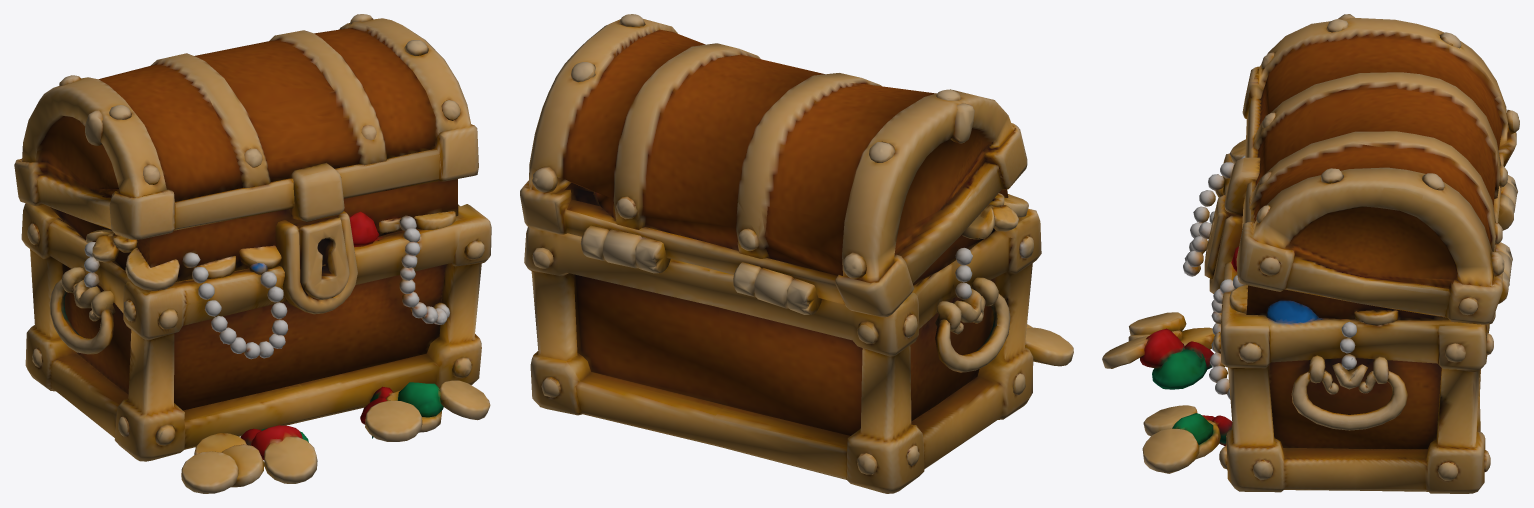
File: treasure+chest.glb
The picture shows the model from 3 angles, left to right: view 1: azimuth 30°, elevation 25°; view 2: azimuth 150°, elevation 25°; view 3: azimuth 270°, elevation 25°; orthographic projection. The views are drawn at different scales.
Parts seen in each view (by area): view 1: tripo_node_43b0cc74-92dd-481e-89c8-77f9787d1594; view 2: tripo_node_43b0cc74-92dd-481e-89c8-77f9787d1594; view 3: tripo_node_43b0cc74-92dd-481e-89c8-77f9787d1594.
Boxes of the visible parts, bbox=[...] form: tripo_node_43b0cc74-92dd-481e-89c8-77f9787d1594: bbox=[14, 14, 491, 493]; tripo_node_43b0cc74-92dd-481e-89c8-77f9787d1594: bbox=[520, 14, 1073, 493]; tripo_node_43b0cc74-92dd-481e-89c8-77f9787d1594: bbox=[1102, 14, 1519, 493].
Bounding box in the file's own units: 0.998 × 0.834 × 0.9473.
1 material, 1 textured.
